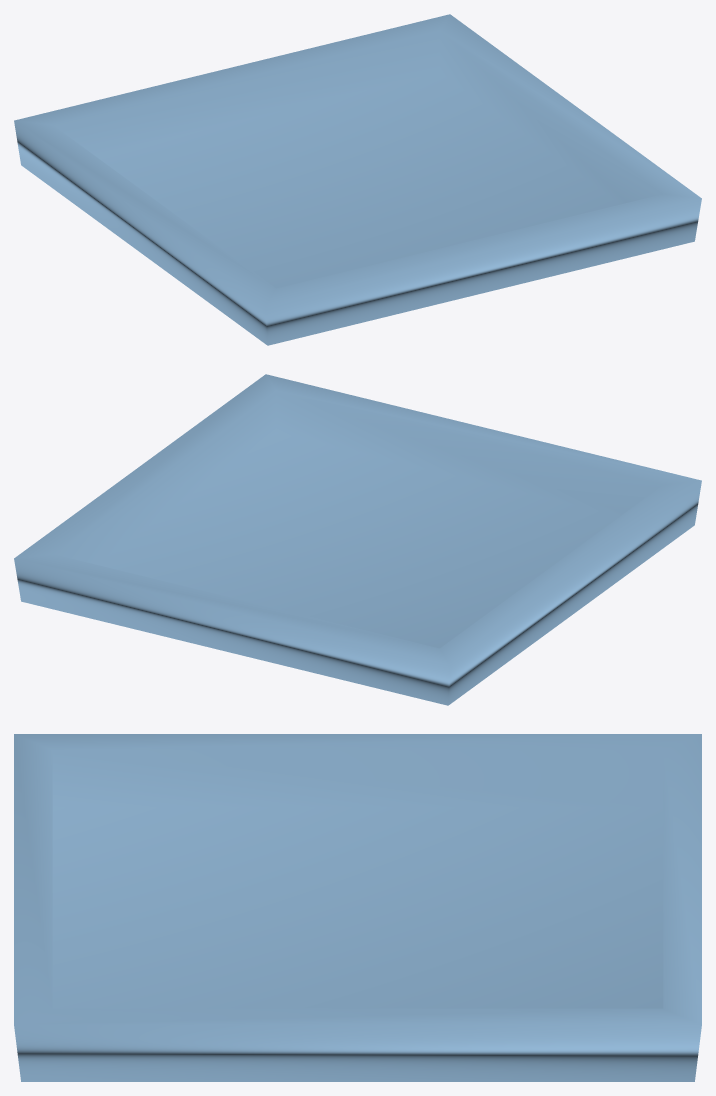
File: Holder.fbx
The picture shows the model from 3 angles, top to bottom: view 1: azimuth 30°, elevation 25°; view 2: azimuth 150°, elevation 25°; view 3: azimuth 270°, elevation 25°; orthographic projection. The views are drawn at different scales.
Visible parts, largest first — view 1: AttackTower_001; view 2: AttackTower_001; view 3: AttackTower_001.
Part boxes in pixels (x1,y1,x2,y2): AttackTower_001: [14, 14, 701, 345]; AttackTower_001: [14, 374, 701, 705]; AttackTower_001: [14, 734, 701, 1081].
Bounding box in the file's own units: 2.25 × 0.2168 × 2.25.
